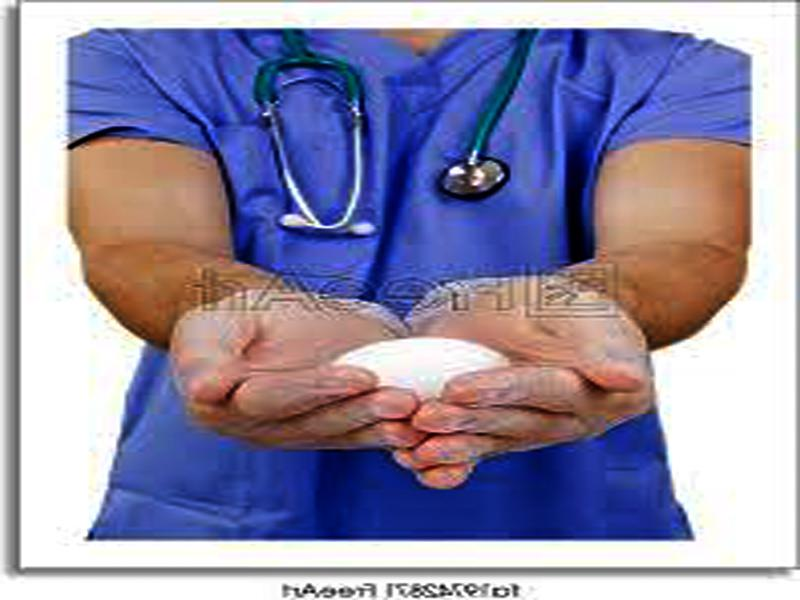Eggs: (330, 336, 504, 405)
